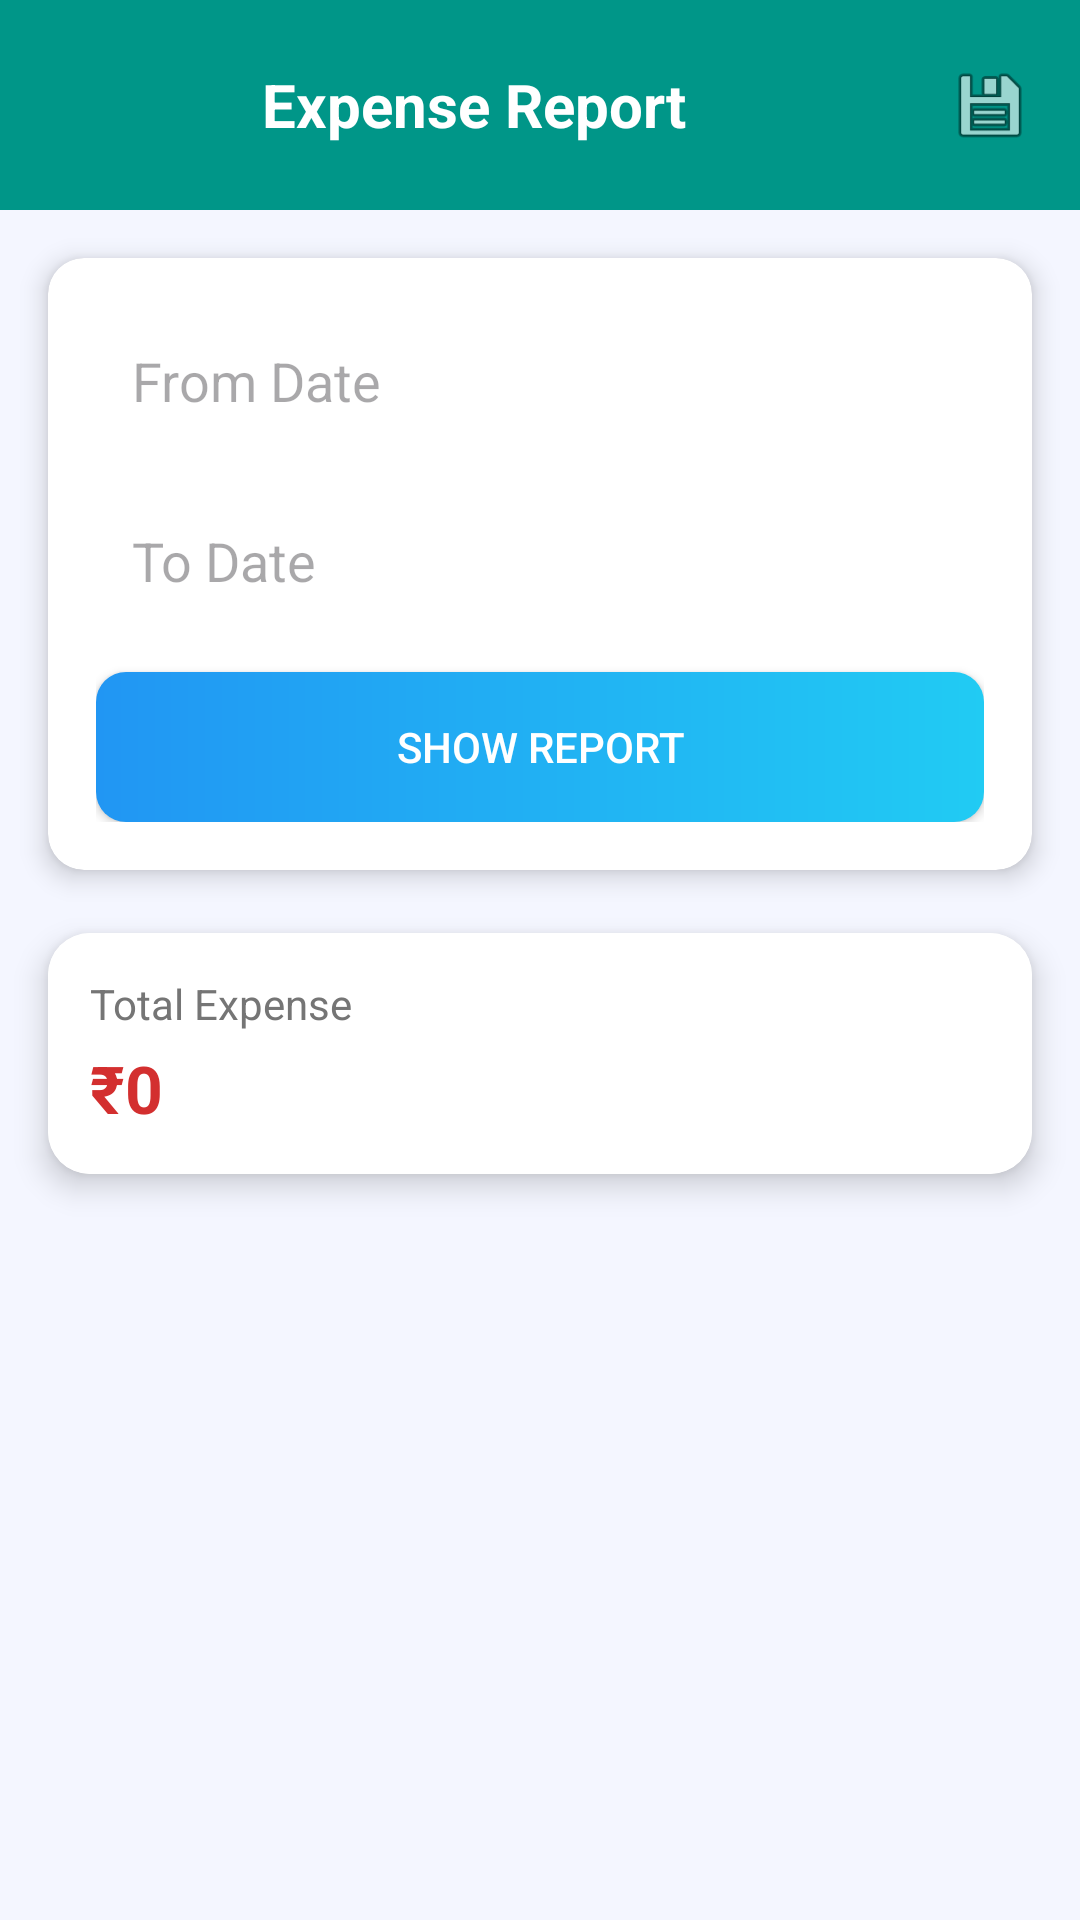

Named icons in this screenshot (1080*1920) and their bounding boxes, (x1, y1, x2, y2):
save: (958, 73, 1022, 137)
